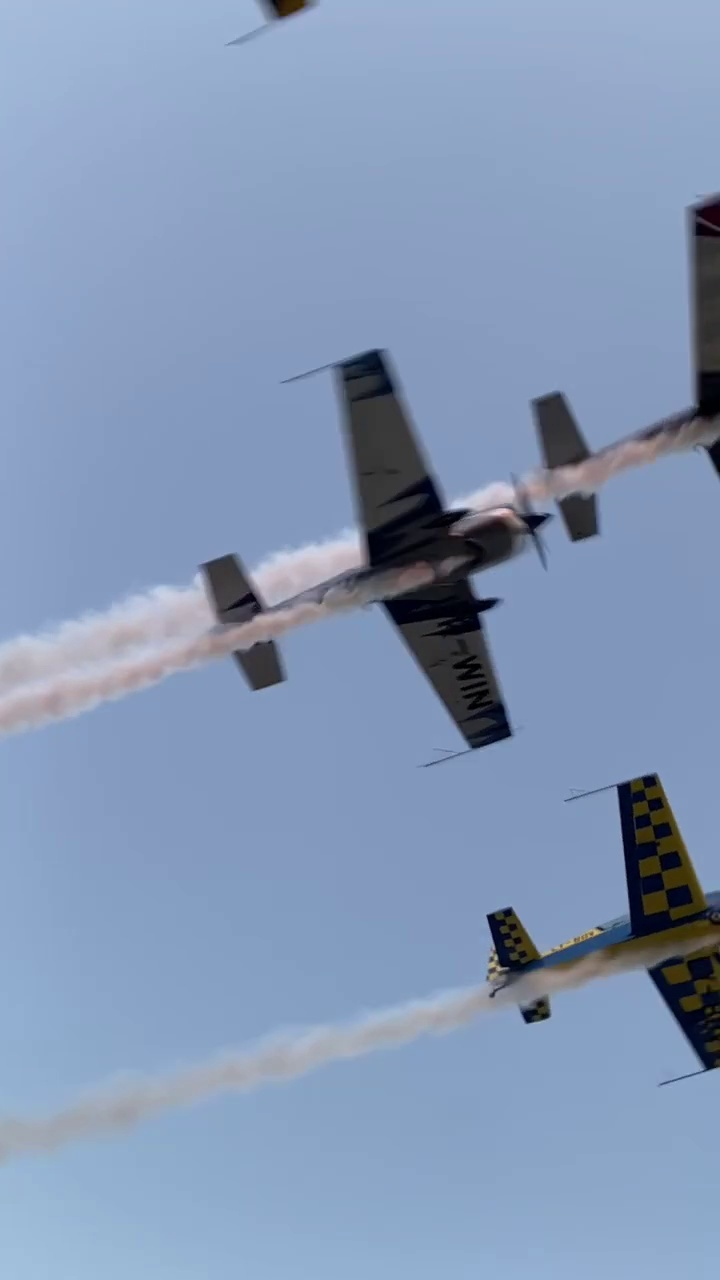plane: (199, 348, 554, 752), (486, 770, 720, 1086), (533, 192, 720, 547)
